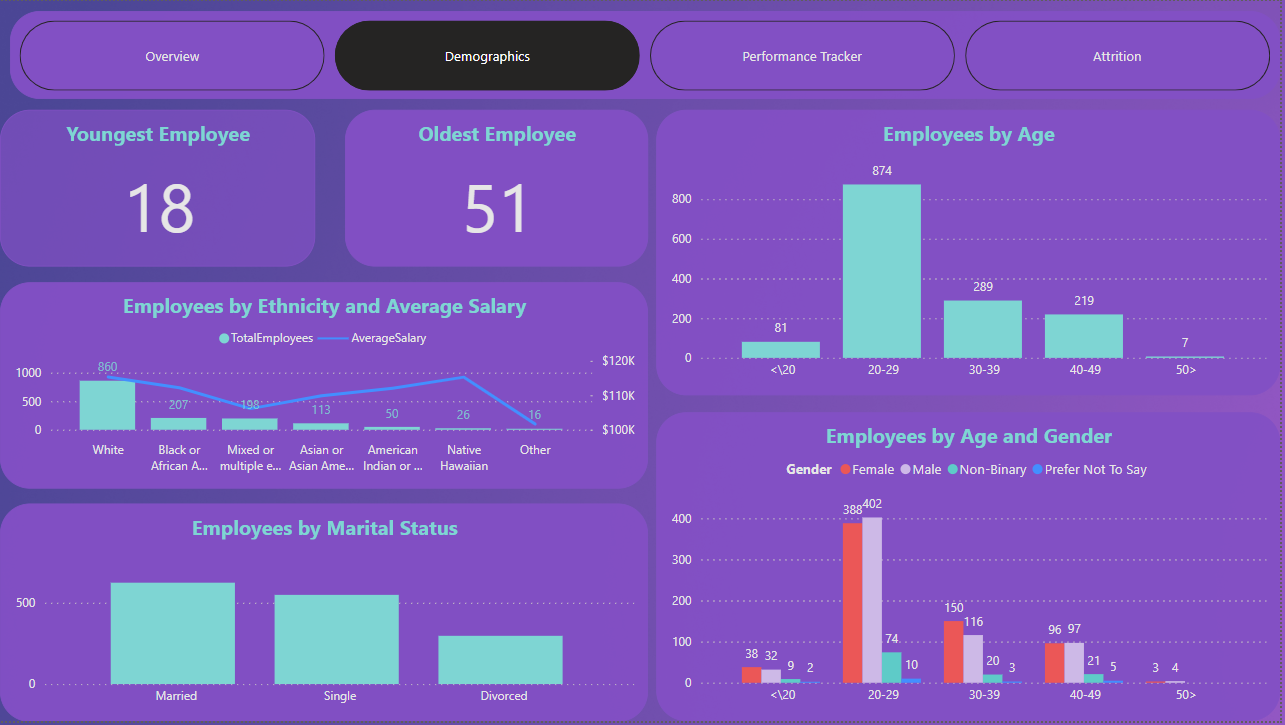

The page's visual inventory and layout, read from the dashboard file:
{"tool":"powerbi","page":{"name":"Demographics","canvas":[1280,720],"ordinal":1},"visuals":[{"type":"card","title":"Youngest Employee","fields":{"Values":["Min(DimEmployee.Age)"]},"box":[0,108.6,314.9,156.8],"z":0},{"type":"card","title":"Oldest Employee","fields":{"Values":["Max(DimEmployee.Age)"]},"box":[345,108.6,302.8,156.8],"z":1000},{"type":"clusteredColumnChart","title":"Employees by Age","fields":{"Y":["_Measures.TotalEmployeesDate"],"Category":["DimEmployee.AgeBins"]},"box":[656.3,108.6,623.7,285.9],"z":2000},{"type":"clusteredColumnChart","title":"Employees by Age and Gender","fields":{"Y":["_Measures.TotalEmployeesDate"],"Category":["DimEmployee.AgeBins"],"Series":["DimEmployee.Gender"]},"box":[656.3,411.4,623.7,308.8],"z":3000},{"type":"clusteredColumnChart","title":"Employees by Marital Status","fields":{"Category":["DimEmployee.MaritalStatus"],"Y":["_Measeres.TotalEmployees"]},"box":[0,501.9,647.9,218.4],"z":4000},{"type":"lineClusteredColumnComboChart","title":"Employees by Ethnicity and Average Salary","fields":{"Category":["DimEmployee.Ethnicity"],"Y":["_Measures.TotalEmployees"],"Y2":["_Measures.AverageSalary"]},"box":[0,281.1,647.9,206.3],"z":5000},{"type":"pageNavigator","box":[10,10,1270,88],"z":6001}]}

Visuals, with their boxes in screenshot pixels (x1, y1, x2, y2), scaled from the page's 1280x720 canvas onto the 1285x725 screenshot:
"Youngest Employee" card: BBox(0, 109, 316, 267)
"Oldest Employee" card: BBox(346, 109, 650, 267)
"Employees by Age" clusteredColumnChart: BBox(659, 109, 1284, 397)
"Employees by Age and Gender" clusteredColumnChart: BBox(659, 414, 1284, 724)
"Employees by Marital Status" clusteredColumnChart: BBox(0, 505, 650, 724)
"Employees by Ethnicity and Average Salary" lineClusteredColumnComboChart: BBox(0, 283, 650, 491)
pageNavigator: BBox(10, 10, 1284, 99)
